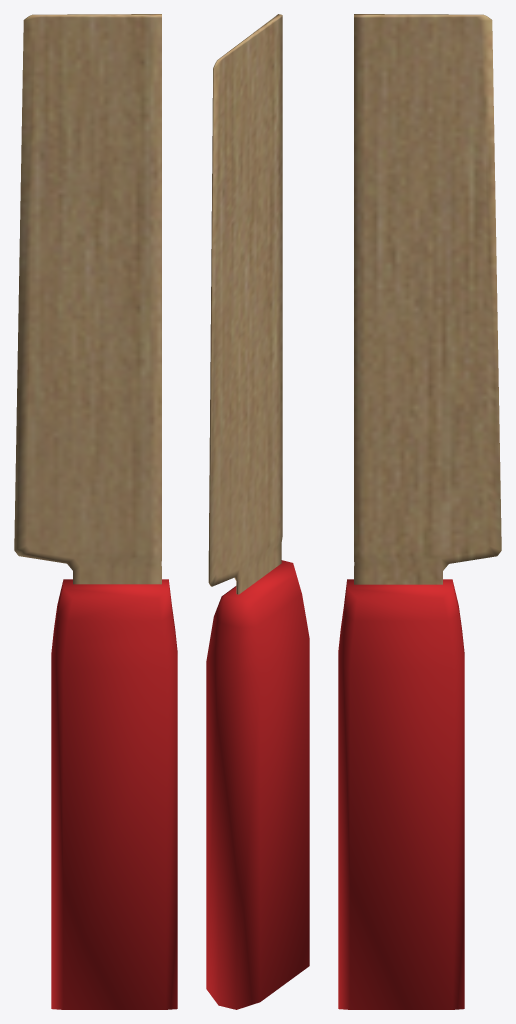
The model's file is MOD_PRO_Knife_02.fbx.
3 views of the same model, side by side, from view 1: azimuth 90°, elevation 25°; view 2: azimuth 150°, elevation 25°; view 3: azimuth 270°, elevation 25° (orthographic). The views are drawn at different scales.
Visible parts, largest first — view 1: HSHP_MOD_Knife_02; view 2: HSHP_MOD_Knife_02; view 3: HSHP_MOD_Knife_02.
Boxes of the visible parts, x1,y1,x2,y2 form: HSHP_MOD_Knife_02: (14, 14, 177, 1009); HSHP_MOD_Knife_02: (206, 14, 309, 1009); HSHP_MOD_Knife_02: (338, 14, 501, 1009).
Bounding box in the file's own units: 0.0187 × 0.3165 × 0.0474.
